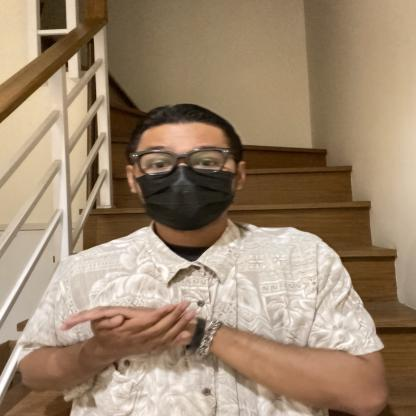Love: (24, 274, 272, 371)
